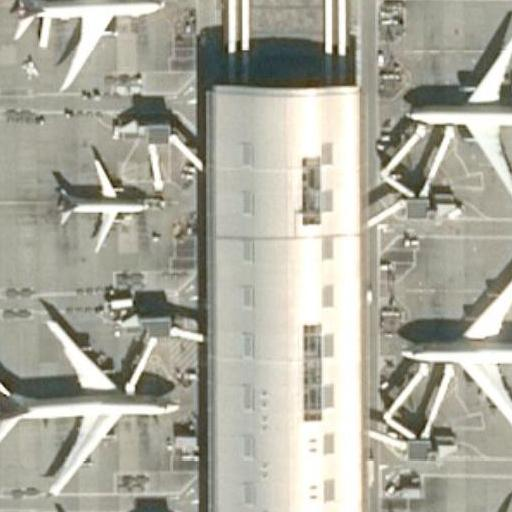Aircraft: (0, 315, 177, 491), (397, 261, 512, 446), (406, 29, 512, 193), (3, 0, 157, 92), (60, 152, 154, 247), (394, 510, 512, 512)
